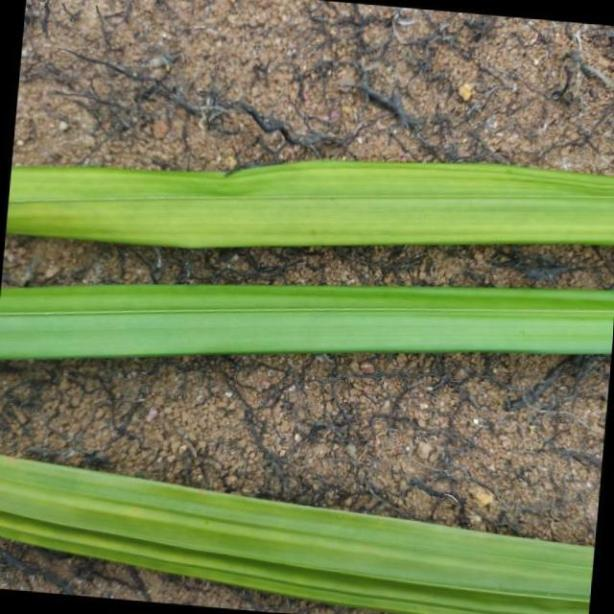nitrogen: (0, 455, 614, 614), (0, 152, 614, 249), (1, 273, 614, 361)
